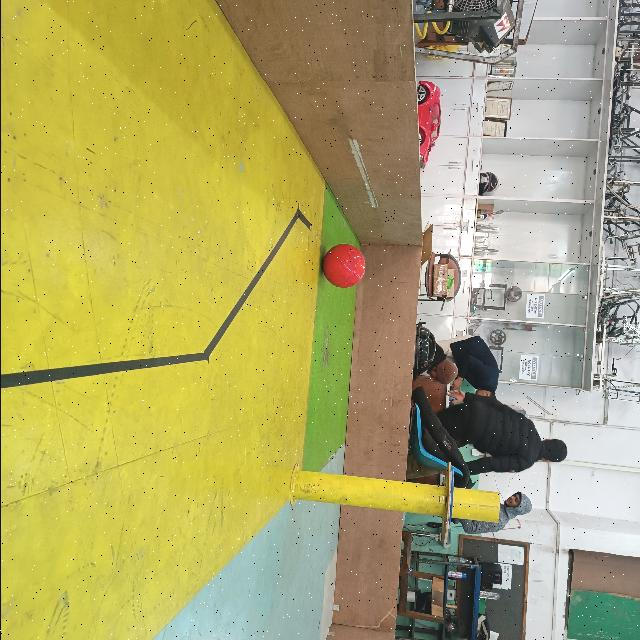R: (320, 243, 366, 289)
